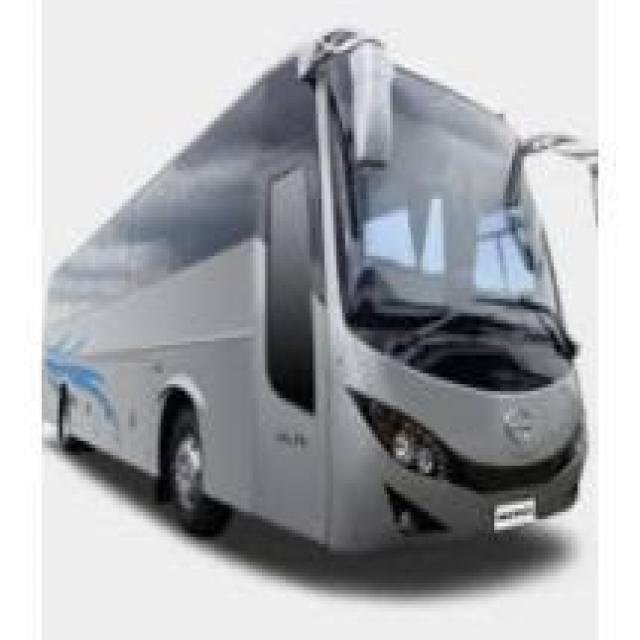Bus: (51, 32, 590, 583)
